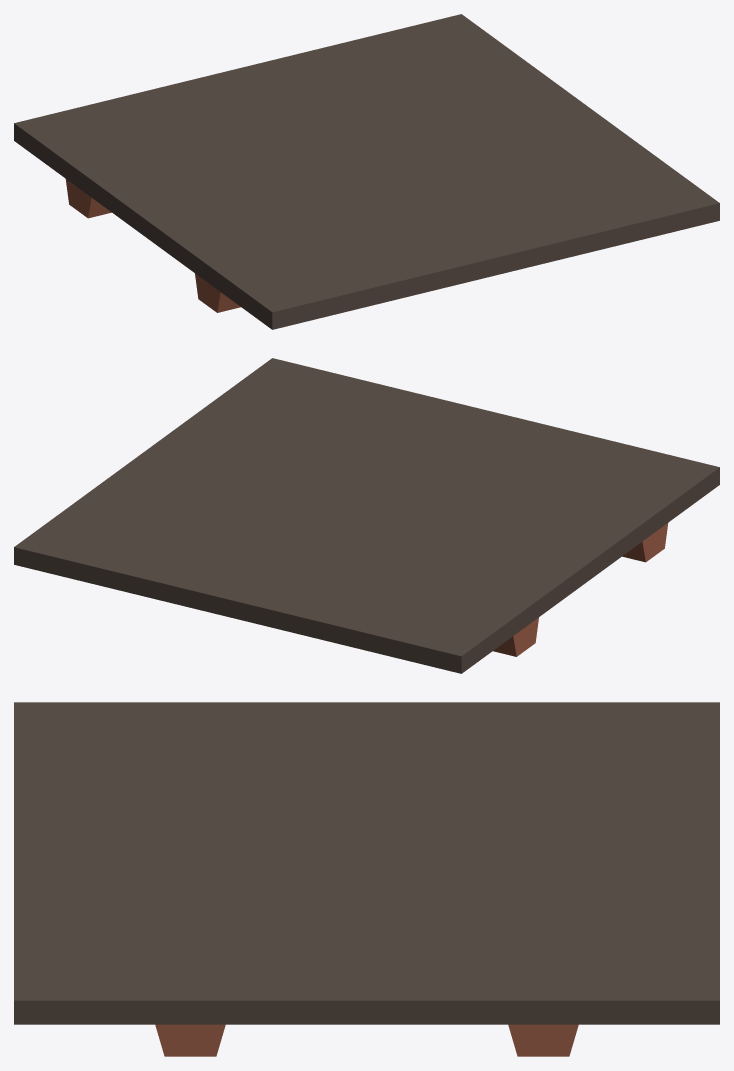
The model's file is ceiling_tile.glb.
3 renders of one model, top to bottom at view 1: azimuth 30°, elevation 25°; view 2: azimuth 150°, elevation 25°; view 3: azimuth 270°, elevation 25°, orthographic. The views are drawn at different scales.
Parts seen in each view (by area): view 1: ceiling_tile; view 2: ceiling_tile; view 3: ceiling_tile.
Part boxes in pixels (left/top/right/bottom): ceiling_tile: left=14, top=14, right=719, bottom=329; ceiling_tile: left=14, top=358, right=719, bottom=673; ceiling_tile: left=14, top=702, right=719, bottom=1056.
Bounding box in the file's own units: 4 × 0.3501 × 4.
1 material, 1 textured.
